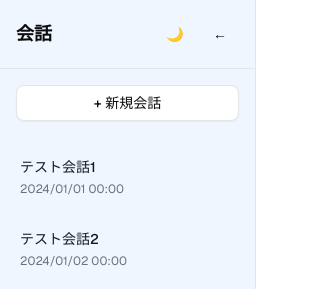
Scenario: Sidebar › 折りたたみボタンをクリックするとサイドバーが折りたたまれる
The image size is (320, 306).
Step 1. Click the button "←" → (220, 34), box [201,18,239,50]
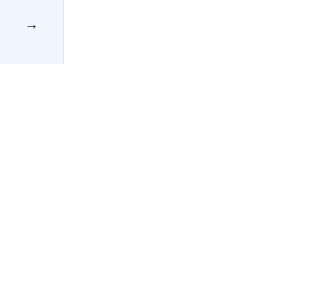
Expected: the text "テスト会話1" is gone
